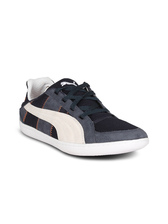shoes: (16, 76, 152, 158)
